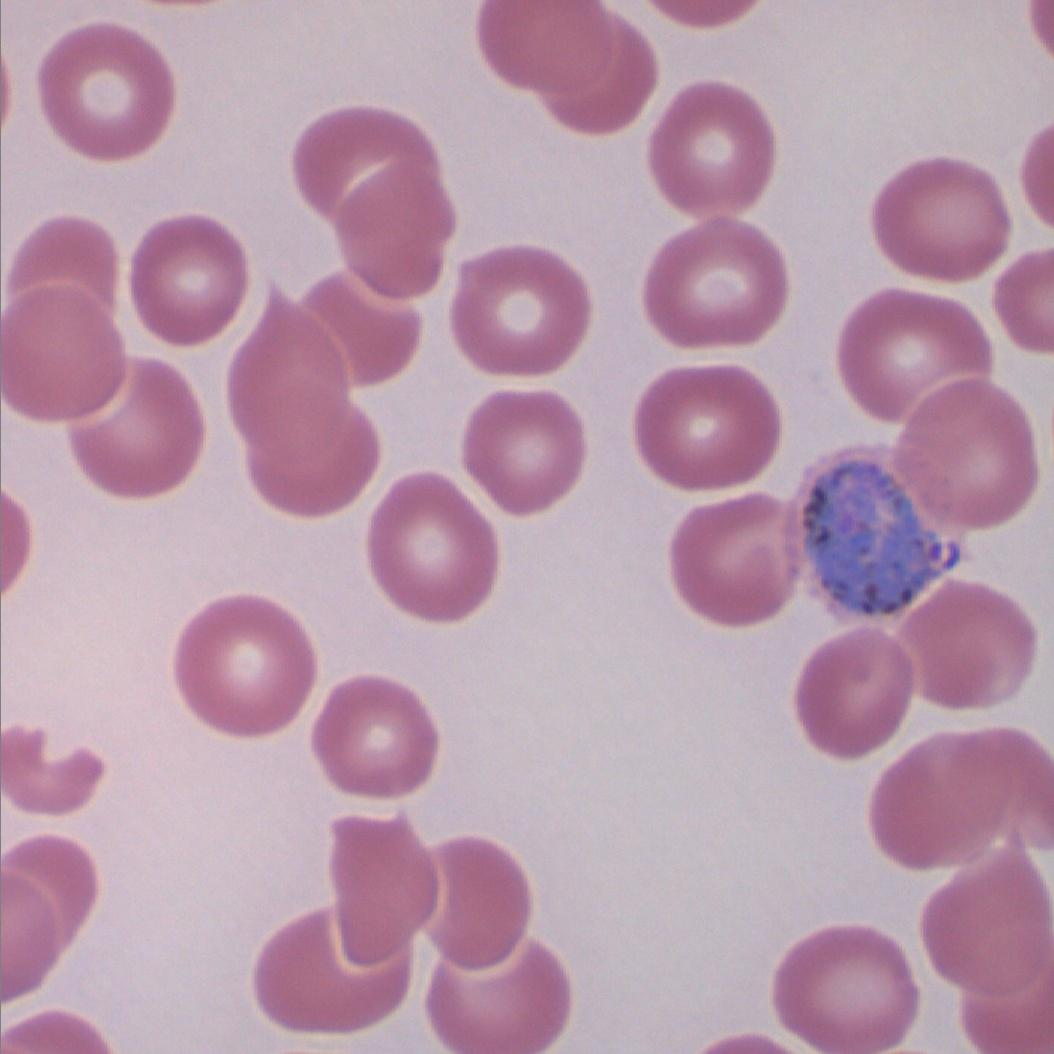Infected: (792, 451, 972, 632)
Uninfected: (228, 292, 378, 514), (292, 104, 454, 295), (872, 729, 1052, 871), (482, 0, 653, 133), (896, 378, 1035, 524), (924, 840, 1050, 1001), (633, 363, 786, 492), (174, 597, 315, 736), (840, 290, 987, 419), (366, 476, 495, 621), (37, 22, 174, 158), (256, 913, 409, 1033), (644, 220, 785, 348), (72, 362, 204, 498), (1, 280, 125, 422), (896, 583, 1034, 710), (774, 927, 915, 1050), (452, 251, 589, 374), (327, 813, 436, 965), (468, 388, 591, 519), (874, 157, 1008, 277), (670, 497, 792, 628), (648, 84, 773, 211), (312, 677, 436, 800), (431, 940, 565, 1051), (796, 630, 909, 757), (132, 214, 246, 338), (304, 272, 420, 386), (428, 837, 530, 964), (3, 836, 97, 969), (8, 215, 118, 307), (2, 724, 99, 811)
